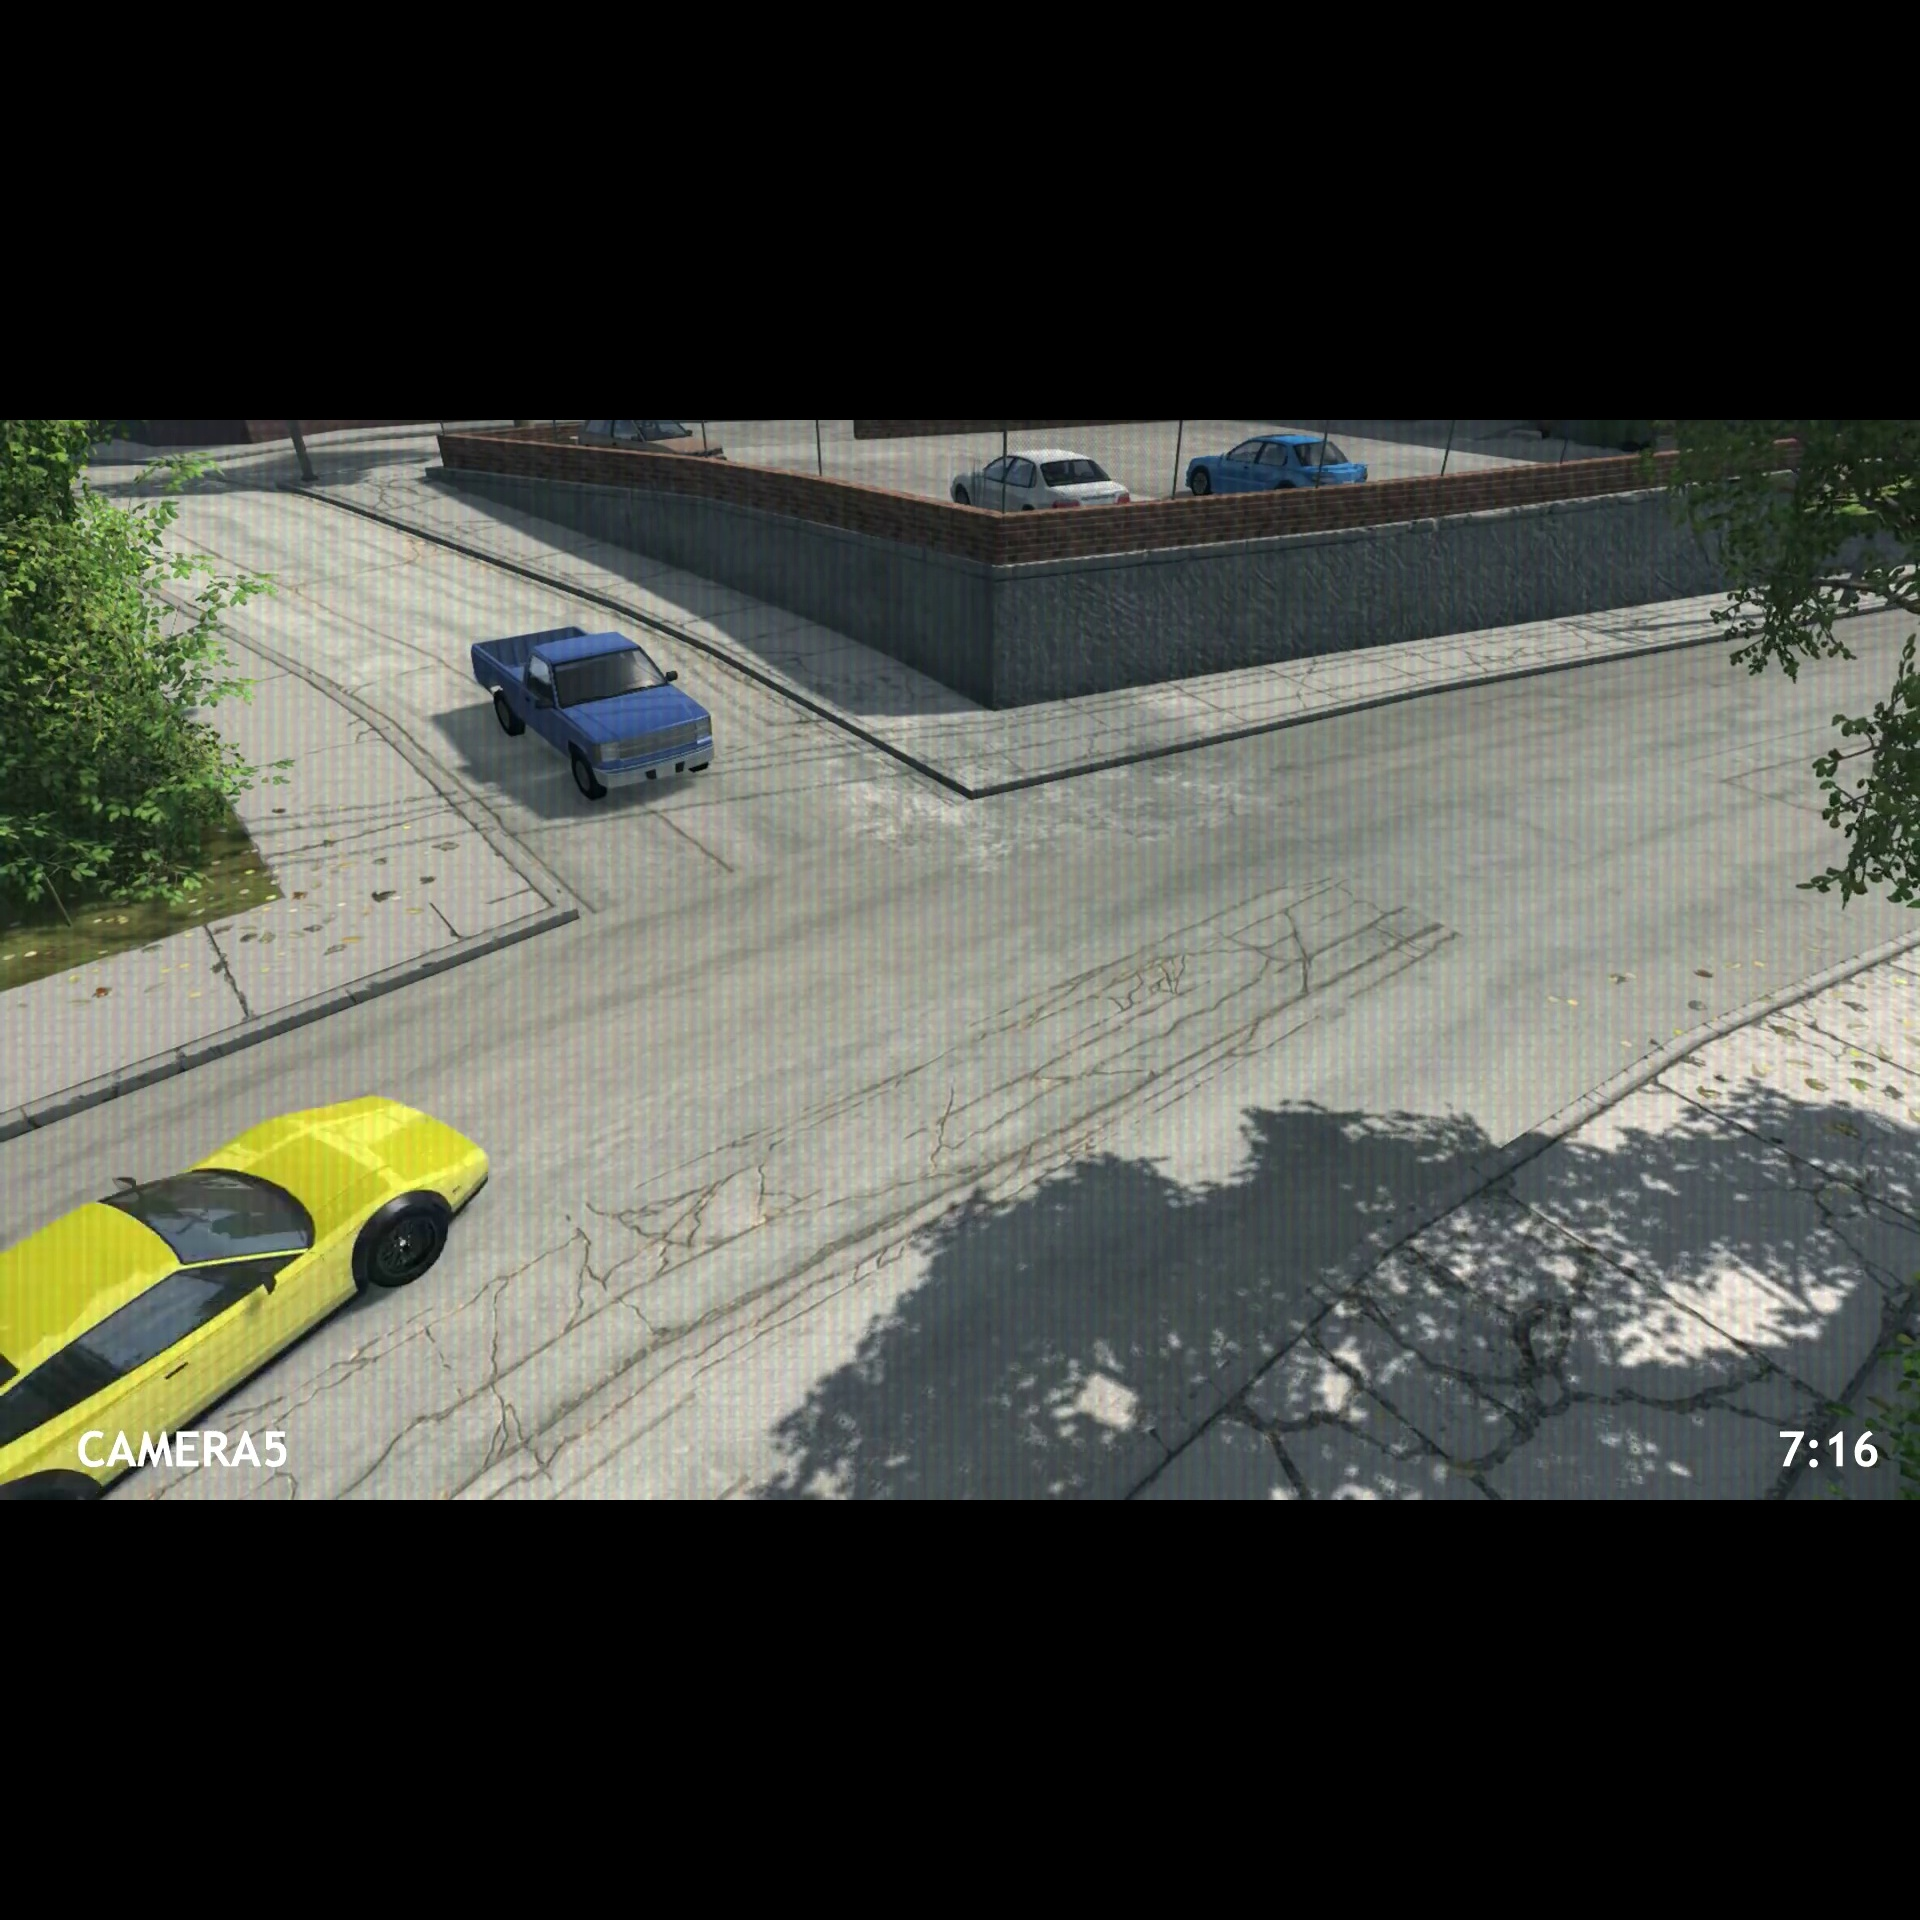vehicle: (4, 1085, 501, 1498), (461, 614, 723, 811), (946, 447, 1139, 515), (1182, 427, 1373, 494)
